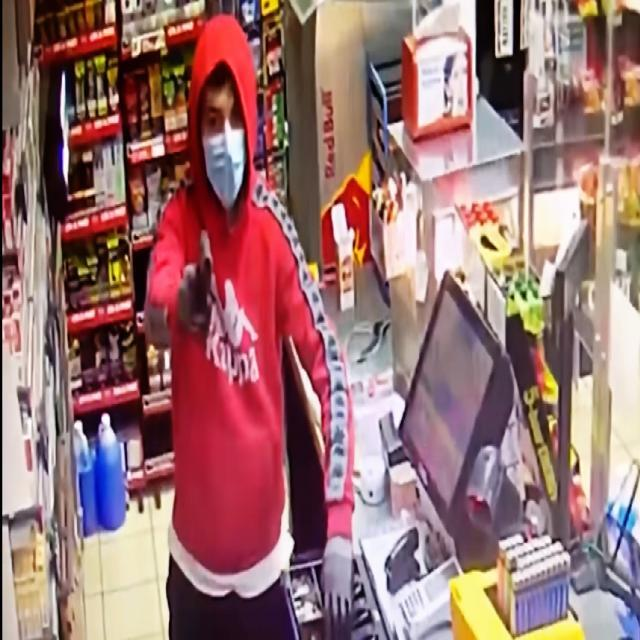Gun: (160, 229, 231, 308)
